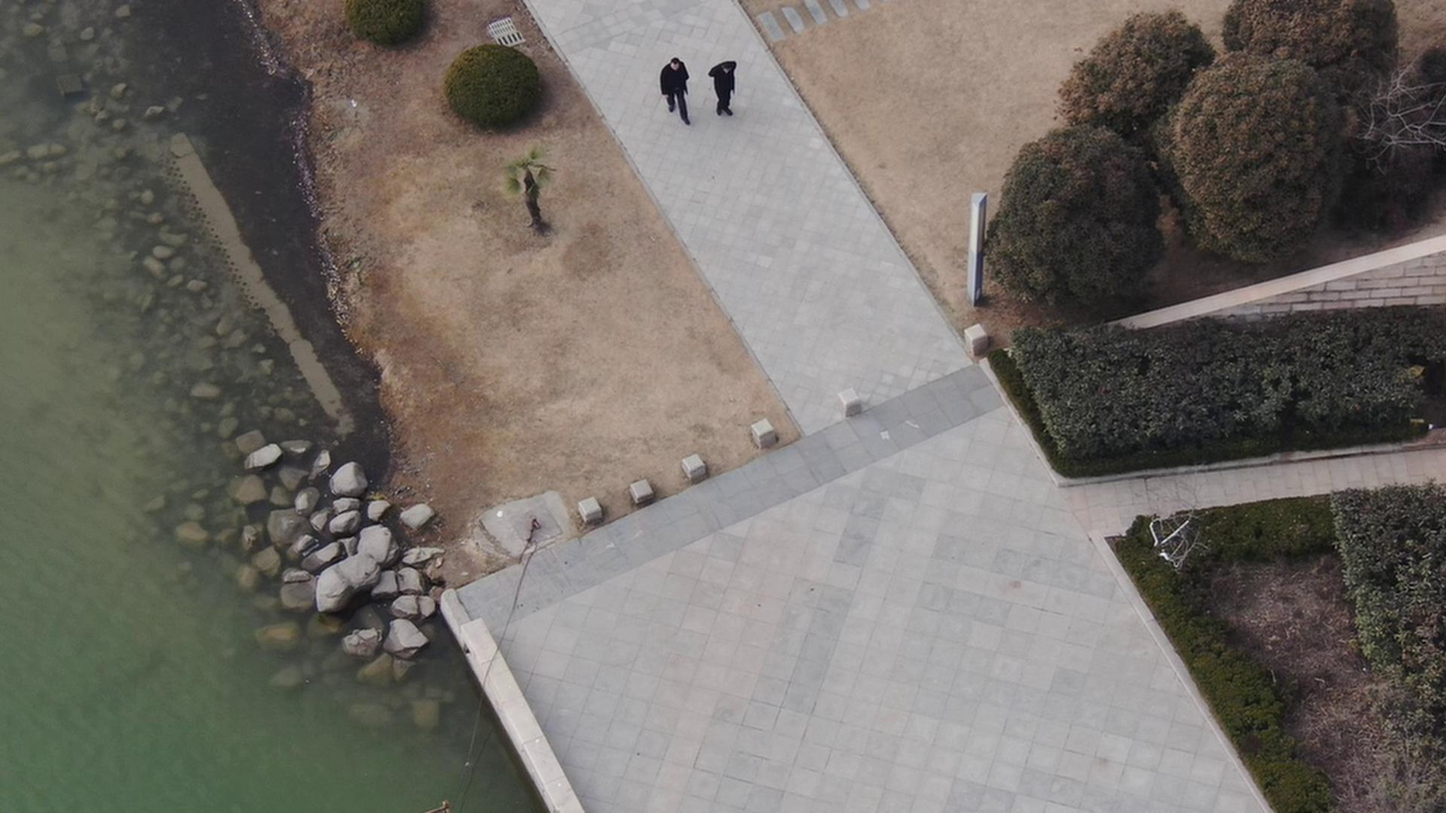human: (681, 39, 729, 116), (635, 35, 678, 107)
